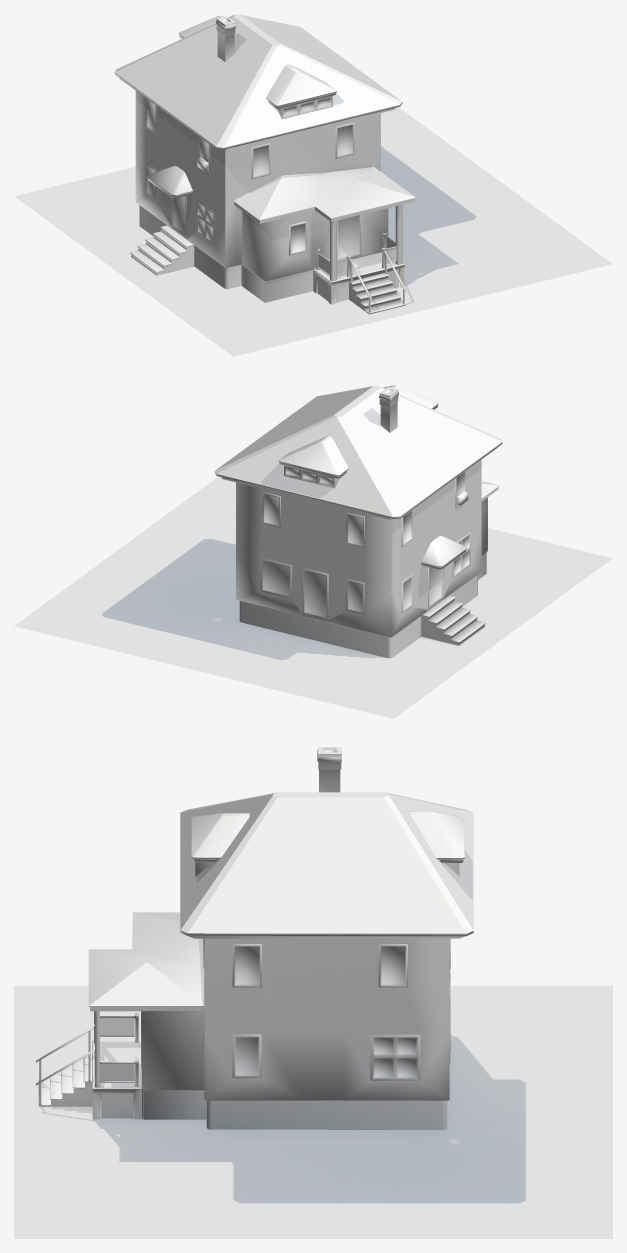
3 views of the same model, one above another, from view 1: azimuth 30°, elevation 25°; view 2: azimuth 150°, elevation 25°; view 3: azimuth 270°, elevation 25° (orthographic). The views are drawn at different scales.
Visible parts, largest first — view 1: house, Plane.002; view 2: house, Plane.002; view 3: house, Plane.002.
Part boxes in pixels (x1=…): house: x1=114, y1=14, x2=415, y2=314; Plane.002: x1=14, y1=107, x2=612, y2=356; house: x1=214, y1=385, x2=502, y2=658; Plane.002: x1=14, y1=476, x2=612, y2=718; house: x1=35, y1=747, x2=473, y2=1129; Plane.002: x1=14, y1=986, x2=612, y2=1238.
Bounding box in the file's own units: 3.72 × 2.13 × 3.72.
Materials: 2 (2 with a texture image).
